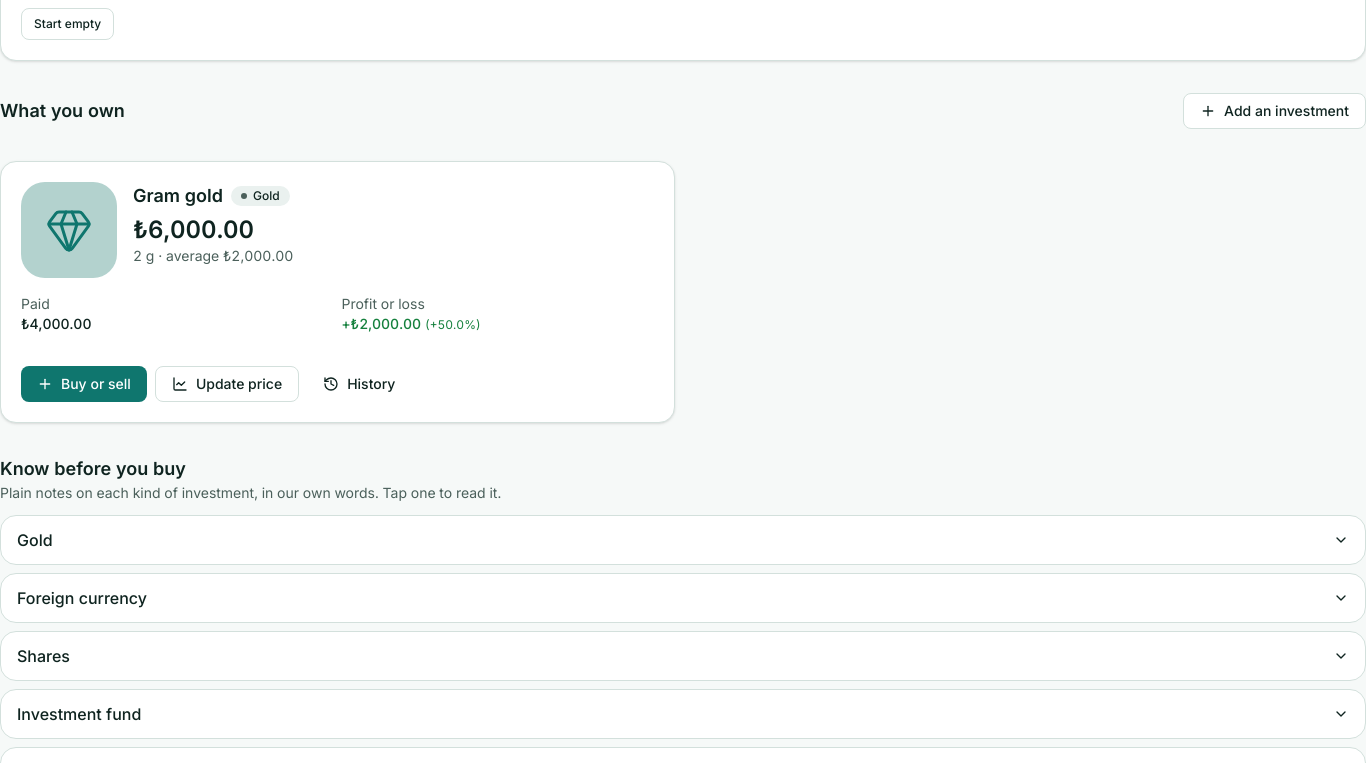
InvestmentsBoard › records a purchase and moves the price to it
The width and height of the screenshot is (1366, 763).
(page scrolled)
Click the button "Buy or sell".
click(84, 384)  # box [21,366,147,402]
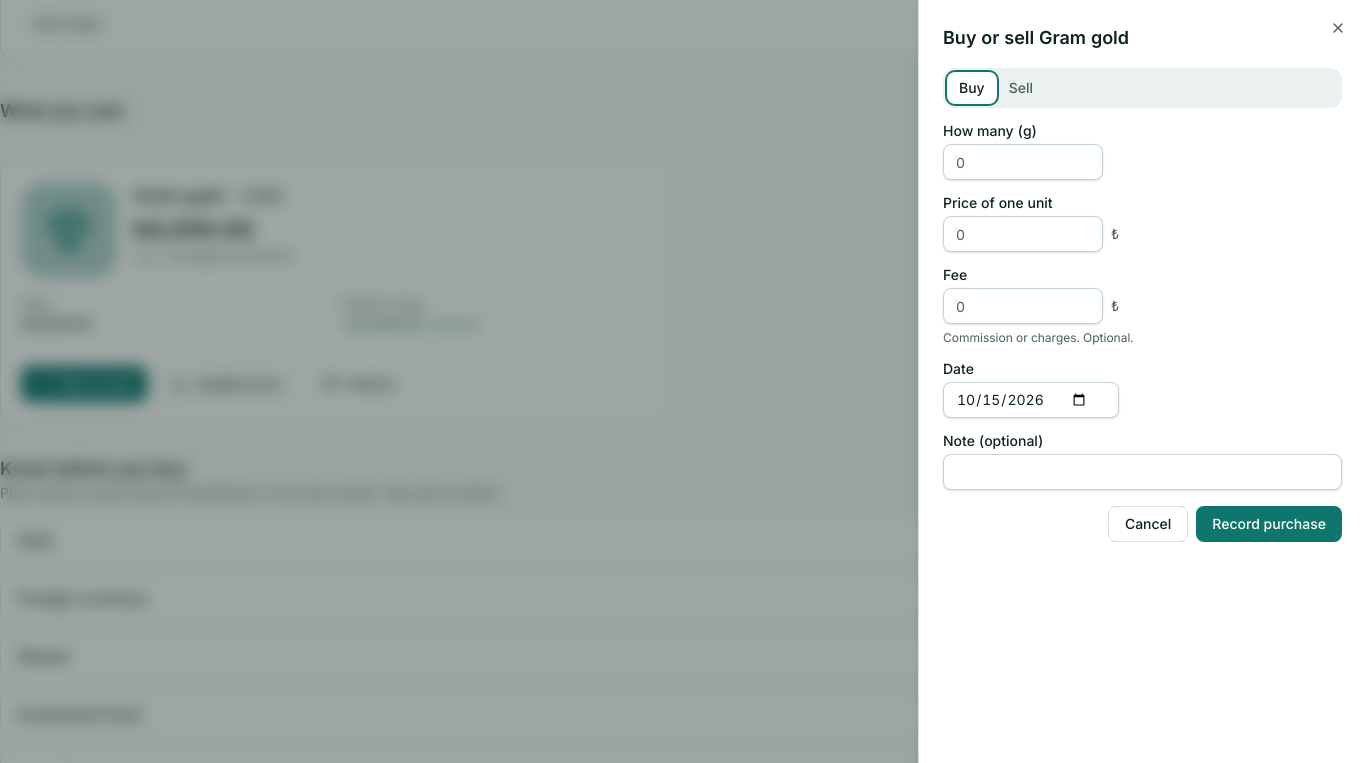
Type "1,5" into the field labelled "How many (g)".
click(1023, 162); type("1,5")  # box [943,144,1103,180]
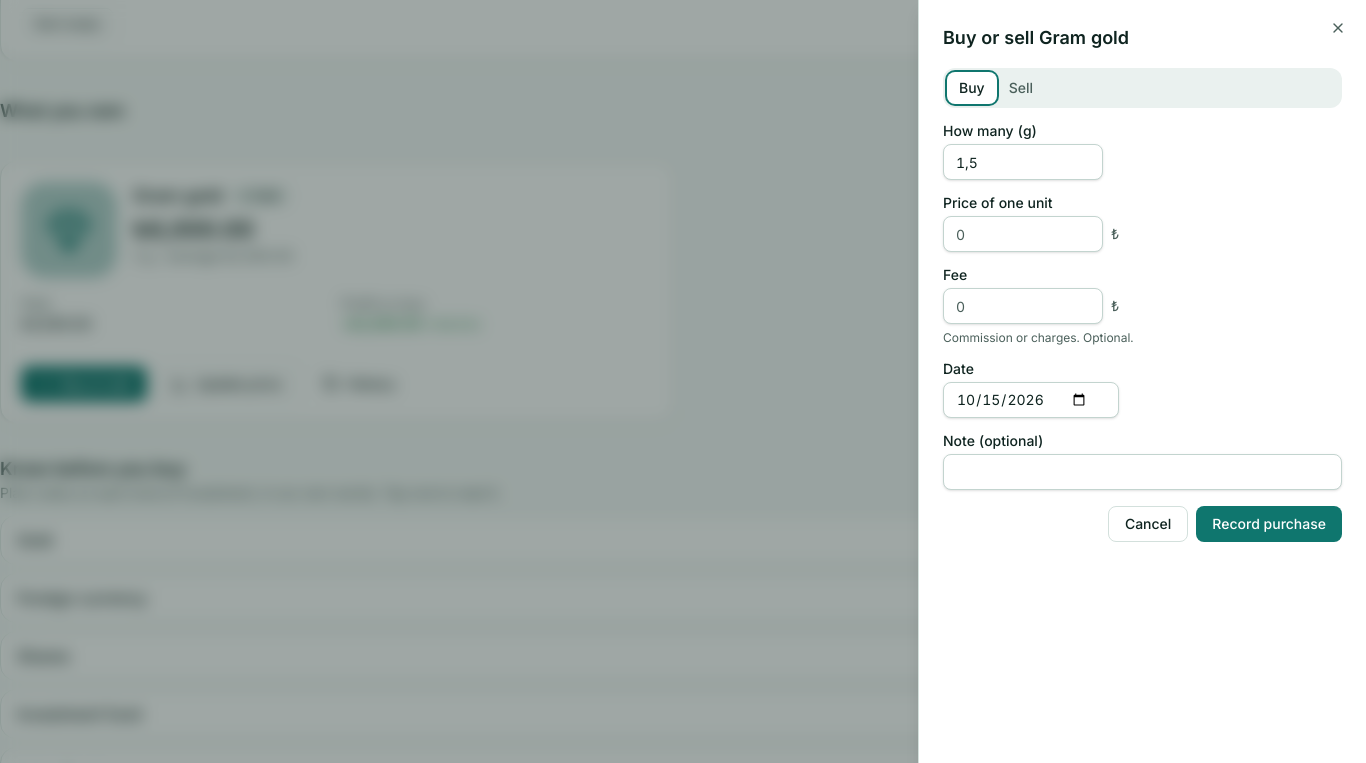
Type "3100" into the field labelled "Price of one unit".
click(1023, 234); type("3100")  # box [943,216,1103,252]
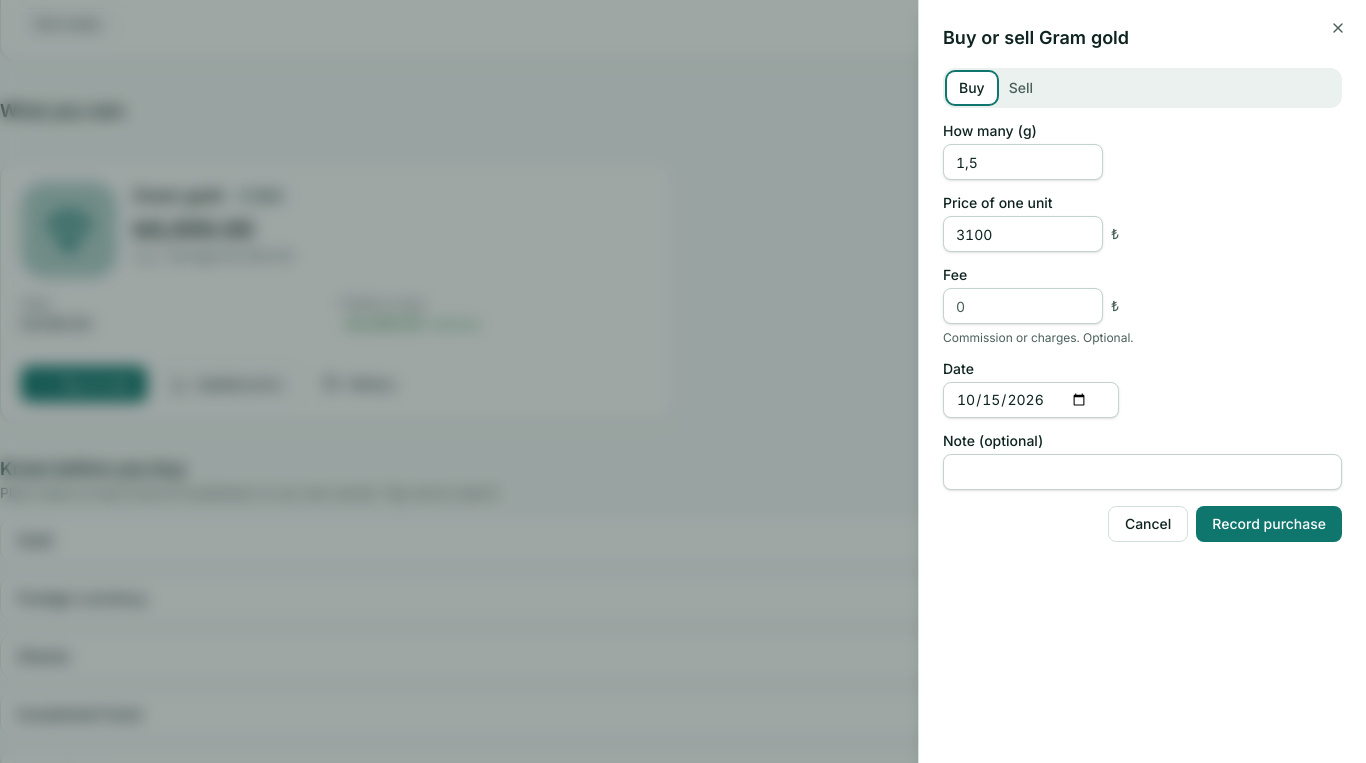
Click the button "Record purchase".
click(1269, 524)  # box [1196,506,1342,542]
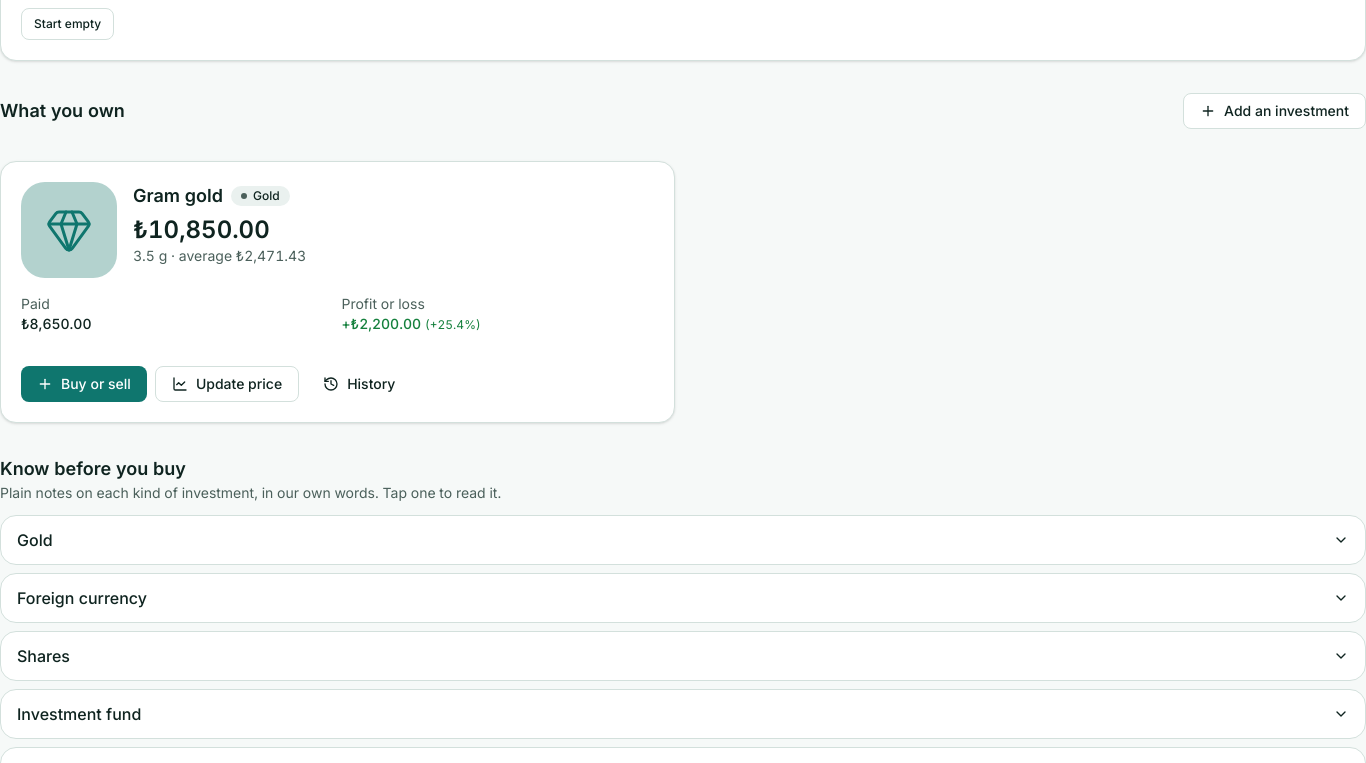
Expected: the text with test id "holding-quantity-g" shows "3.5 g", [133,247,167,264]
